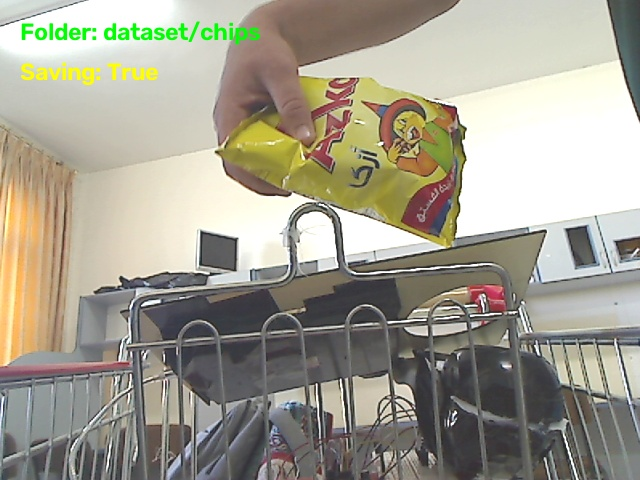chips: (217, 77, 465, 246)
